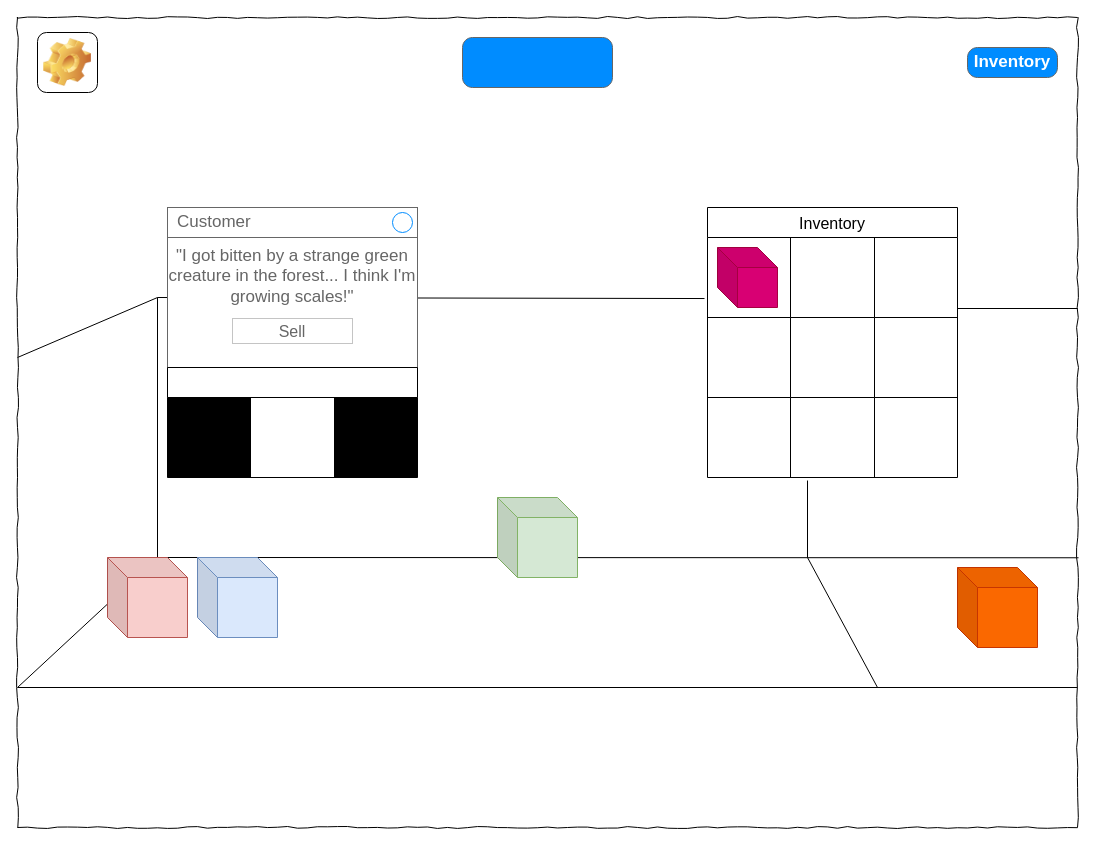
The diagram is 1098 pixels wide and 845 high, and some of its shapes have lost their labels. Each missing label, with the centre of its shape:
"End the day" belongs at point (537, 62).
"Which potion will you offer?" belongs at point (292, 422).
